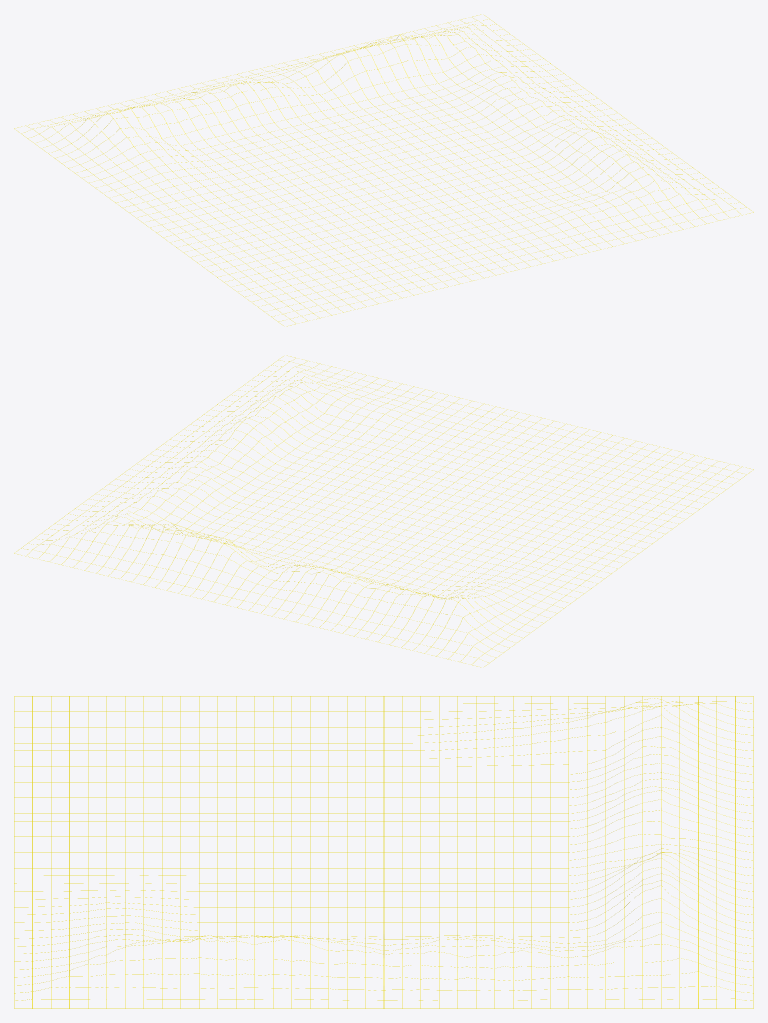
File: terrain-grid.obj
The picture shows the model from 3 angles, top to bottom: view 1: azimuth 30°, elevation 25°; view 2: azimuth 150°, elevation 25°; view 3: azimuth 270°, elevation 25°; orthographic projection. The views are drawn at different scales.
Parts seen in each view (by area): view 1: terrain_grid; view 2: terrain_grid; view 3: terrain_grid.
Part boxes in pixels (x1,y1,x2,y2): terrain_grid: (14,14,753,326); terrain_grid: (14,355,753,667); terrain_grid: (14,696,753,1008).
Size of the model in its own units: 220 by 14.89 by 220.
